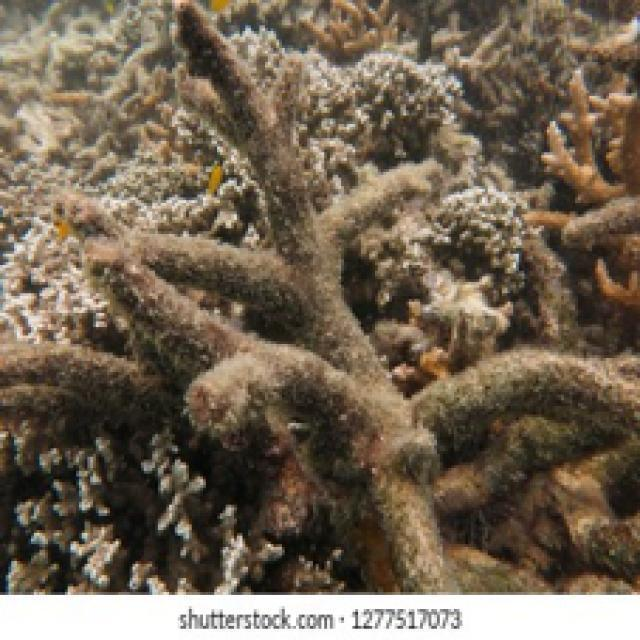Dead Coral: (50, 37, 621, 570)
